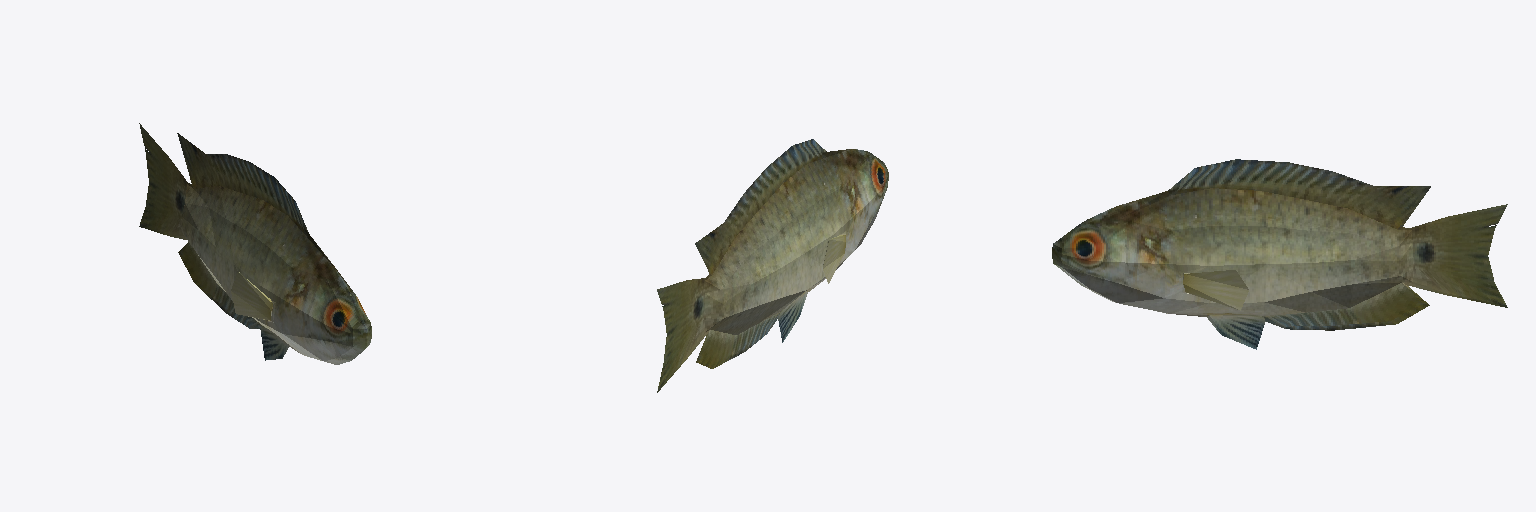
3 renders of one model, left to right at view 1: azimuth 30°, elevation 25°; view 2: azimuth 150°, elevation 25°; view 3: azimuth 270°, elevation 25°, orthographic.
Parts seen in each view (by area): view 1: FISH; view 2: FISH; view 3: FISH.
Part boxes in pixels (left/top/right/bottom): FISH: left=139, top=123, right=371, bottom=364; FISH: left=657, top=139, right=888, bottom=392; FISH: left=1052, top=159, right=1507, bottom=349.
Bounding box in the file's own units: 79.92 × 180 × 391.
Materials: 1 (1 with a texture image).